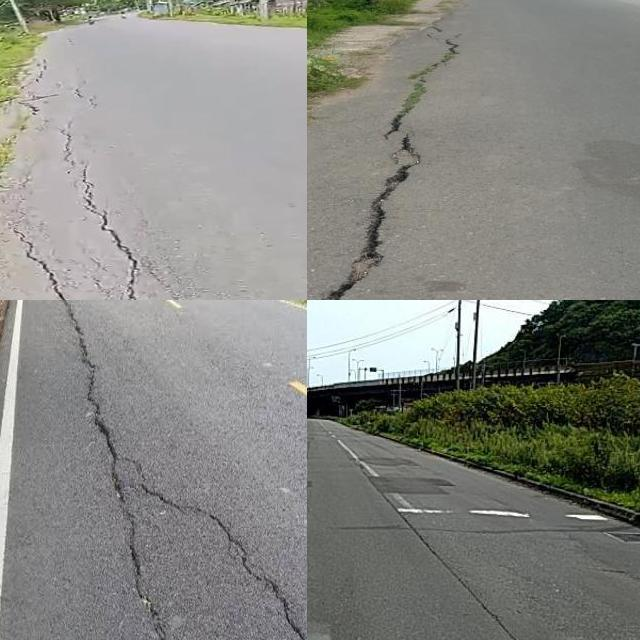Memanjang: (307, 23, 468, 300), (50, 300, 177, 640), (347, 445, 538, 640), (143, 465, 307, 640), (52, 137, 152, 300), (9, 228, 89, 300)
